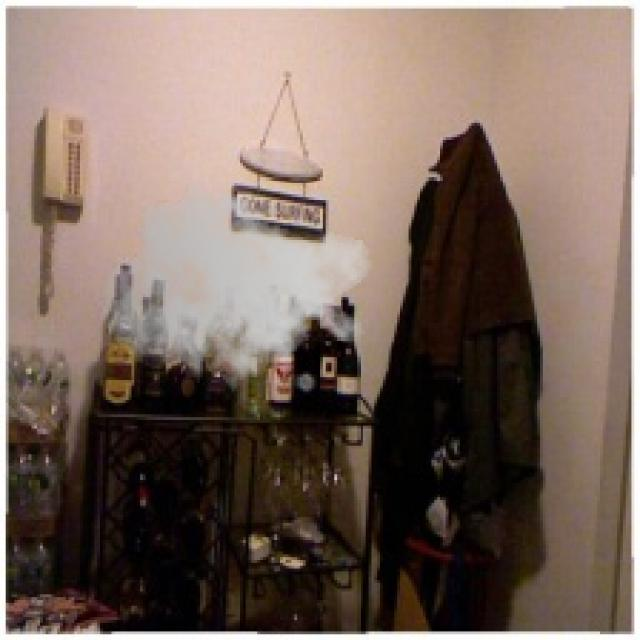smoke: (100, 177, 374, 403)
